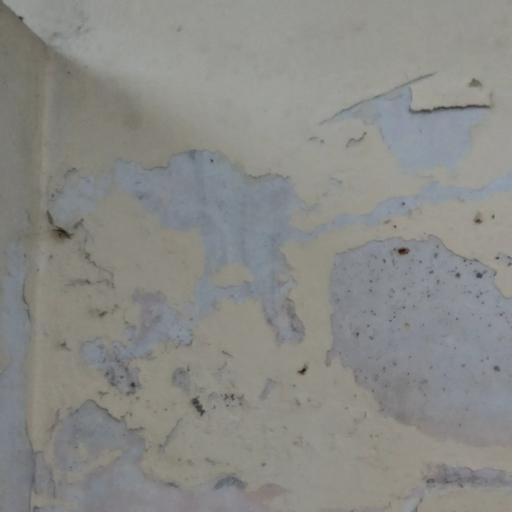peeling: (0, 54, 512, 512)
